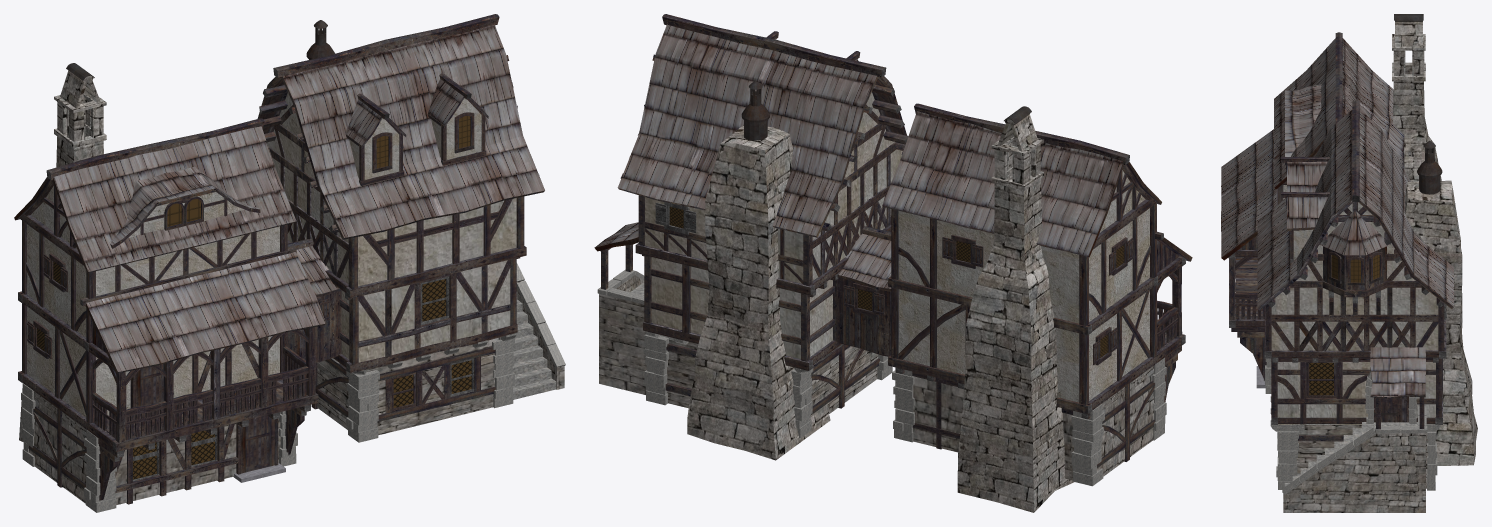
The model's file is P2_housepack.glb.
3 views of the same model, side by side, from view 1: azimuth 30°, elevation 25°; view 2: azimuth 150°, elevation 25°; view 3: azimuth 270°, elevation 25° (orthographic). The views are drawn at different scales.
Parts seen in each view (by area): view 1: Roof, WoodRight, WoodLeft, BalconyWood, RightLevel3, LeftLevel3, RightLevel2, LeftLevel2, LeftLevel1, RightLevel1, StoneRight, ChimneyLeft (+21 smaller); view 2: Roof, ChimneyLeft, ChimneyRight, WoodLeft, WoodRight, LeftLevel3, LeftLevel2, LeftLevel1, RightLevel3, RightLevel2, StoneLeft, StairsSides (+13 smaller); view 3: Roof, WoodRight, StairsSides, ChimneyRight, RightLevel3, ChimneyLeft, RightLevel2, WoodLeft, StoneRight, RoofRightFrameHolders, RightLevel1, WindowsRightFrame (+10 smaller).
Part boxes in pixels (x1,y1,x2,y2): Roof: (53,24,544,371); WoodRight: (268,99,526,422); WoodLeft: (18,180,318,504); BalconyWood: (92,327,315,442); RightLevel3: (267,93,516,286); LeftLevel3: (27,186,279,337); RightLevel2: (341,260,510,362); LeftLevel2: (27,306,279,416); LeftLevel1: (29,391,280,504); RightLevel1: (317,337,500,435); StoneRight: (331,333,515,442); ChimneyLeft: (19,70,106,441); Roof: (595,24,1123,288); ChimneyLeft: (957,113,1074,512); ChimneyRight: (687,125,830,460); WoodLeft: (888,165,1185,467); WoodRight: (600,105,896,415); LeftLevel3: (898,170,1149,323); LeftLevel2: (898,289,1149,402); LeftLevel1: (913,366,1153,480); RightLevel3: (645,92,902,283); RightLevel2: (651,257,832,358); StoneLeft: (892,358,1166,486); StairsSides: (599,275,646,394); Roof: (1221,38,1453,397); WoodRight: (1264,202,1446,441); StairsSides: (1283,427,1425,512); ChimneyRight: (1404,180,1477,465); RightLevel3: (1271,202,1438,350); ChimneyLeft: (1392,20,1441,181); RightLevel2: (1277,362,1435,424); WoodLeft: (1228,151,1317,380); StoneRight: (1270,372,1440,490); RoofRightFrameHolders: (1268,100,1444,307); RightLevel1: (1296,425,1428,488); WindowsRightFrame: (1289,231,1446,397).
Size of the model in its own units: 16.5 by 12.27 by 8.54.
Materials: 83 (83 with a texture image).
